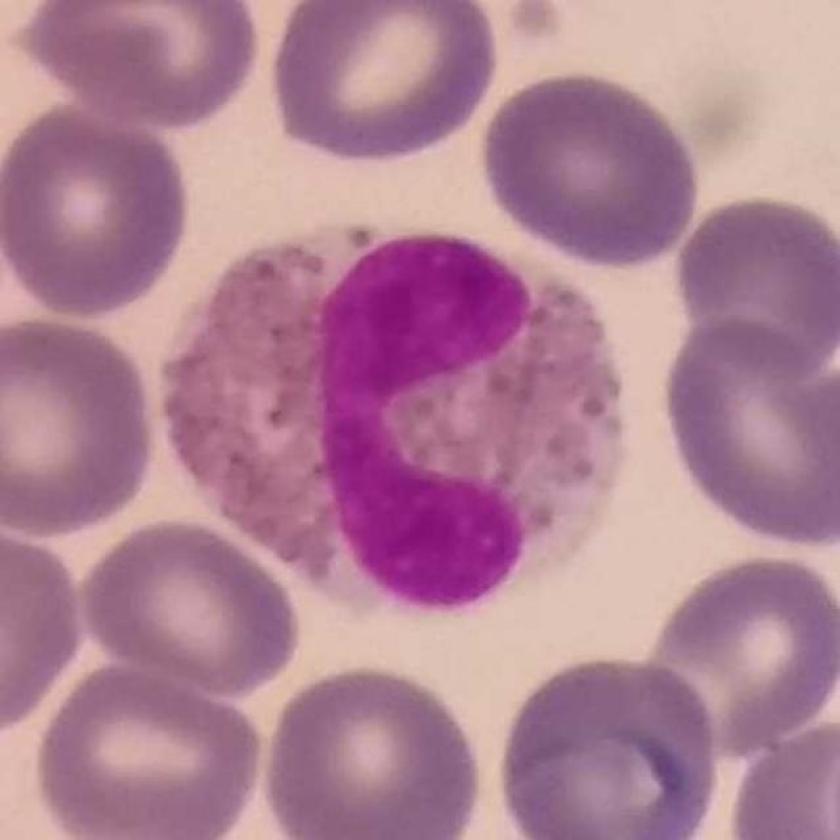eosinophil: (161, 215, 635, 618)
